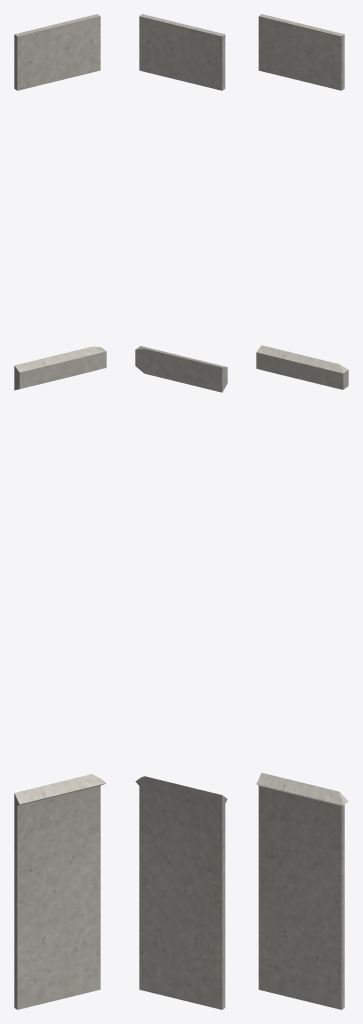
Rendered from w_corner_b.glb.
3 renders of one model, left to right at view 1: azimuth 30°, elevation 25°; view 2: azimuth 150°, elevation 25°; view 3: azimuth 330°, elevation 25°, orthographic.
Parts seen in each view (by area): view 1: w_corner_b_concrete; view 2: w_corner_b_concrete; view 3: w_corner_b_concrete.
Boxes of the visible parts, <box> form: w_corner_b_concrete: <box>14,14,106,1009</box>; w_corner_b_concrete: <box>135,14,227,1009</box>; w_corner_b_concrete: <box>256,14,348,1009</box>.
Size of the model in its own units: 0.335 by 3.58 by 0.035.
1 material, 1 textured.
